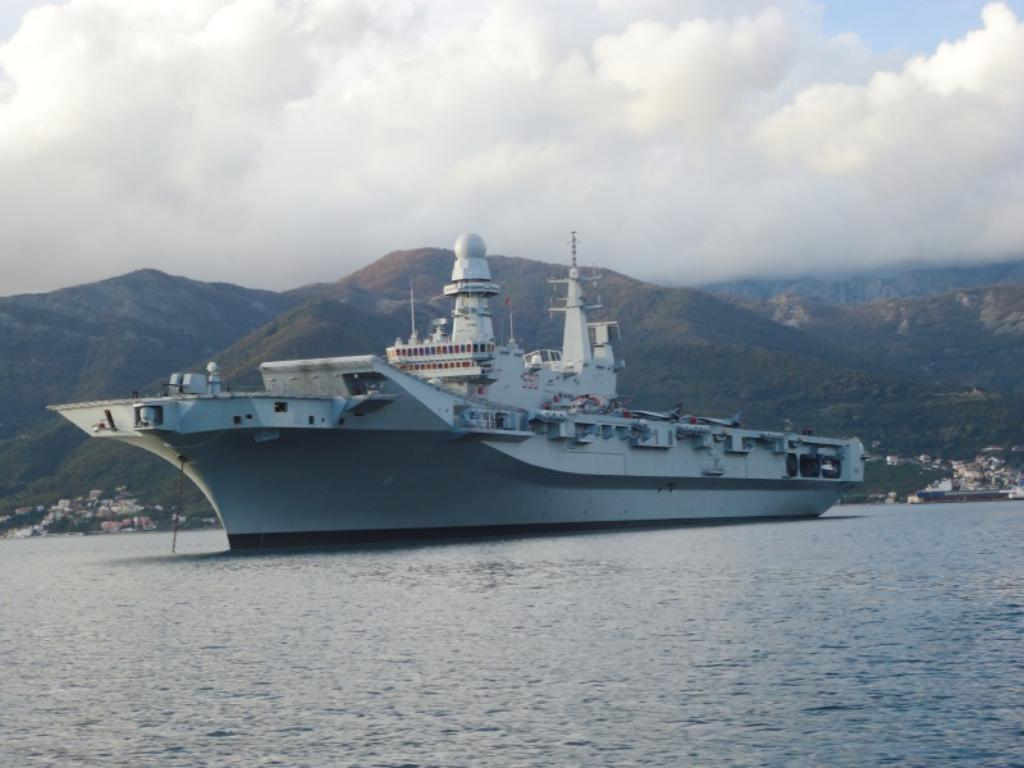Warship: (41, 220, 871, 568)
